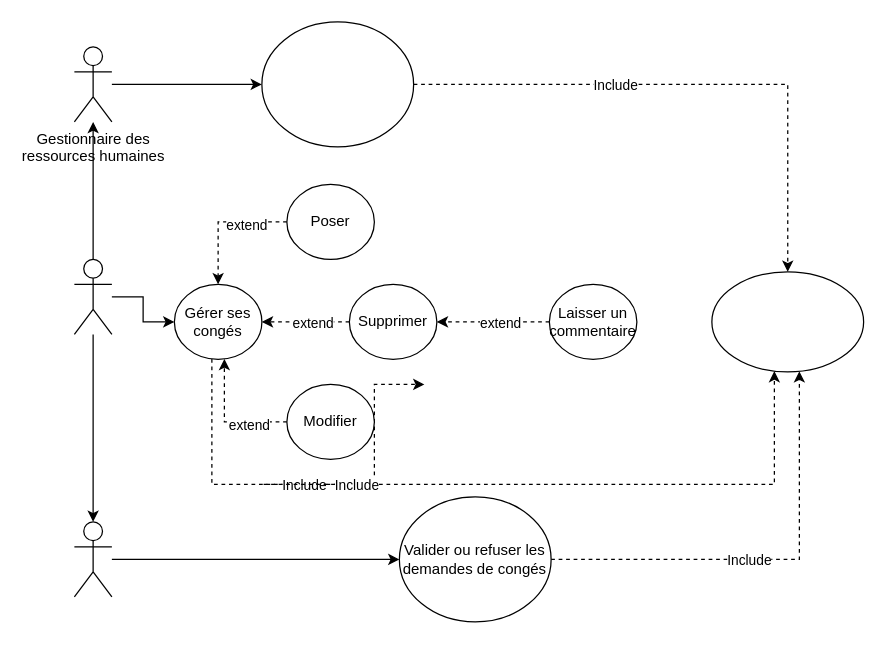
This 885x645 diagram has some shape labels left out. The shapes that lost their labels are listed below. From the top down, each one's box as (x1, y1, x2, y2) in pixels, then its label:
(261, 21, 414, 147): Assigner un manager à un employé
(73, 258, 112, 334): Employé
(711, 271, 864, 372): Se connecter
(73, 521, 112, 597): Manager
